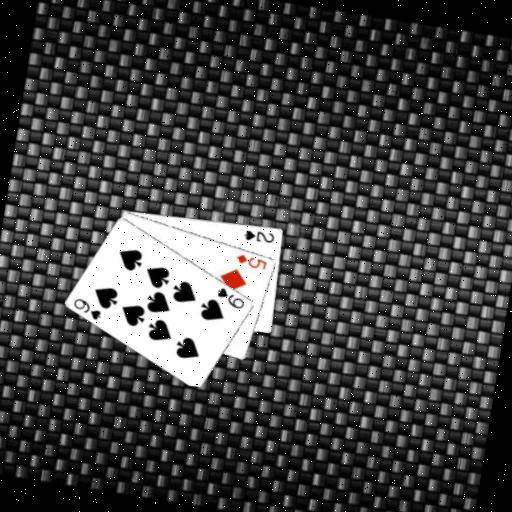2S: (240, 224, 276, 245)
5D: (233, 249, 270, 271)
9S: (68, 294, 105, 322), (213, 283, 248, 311)
